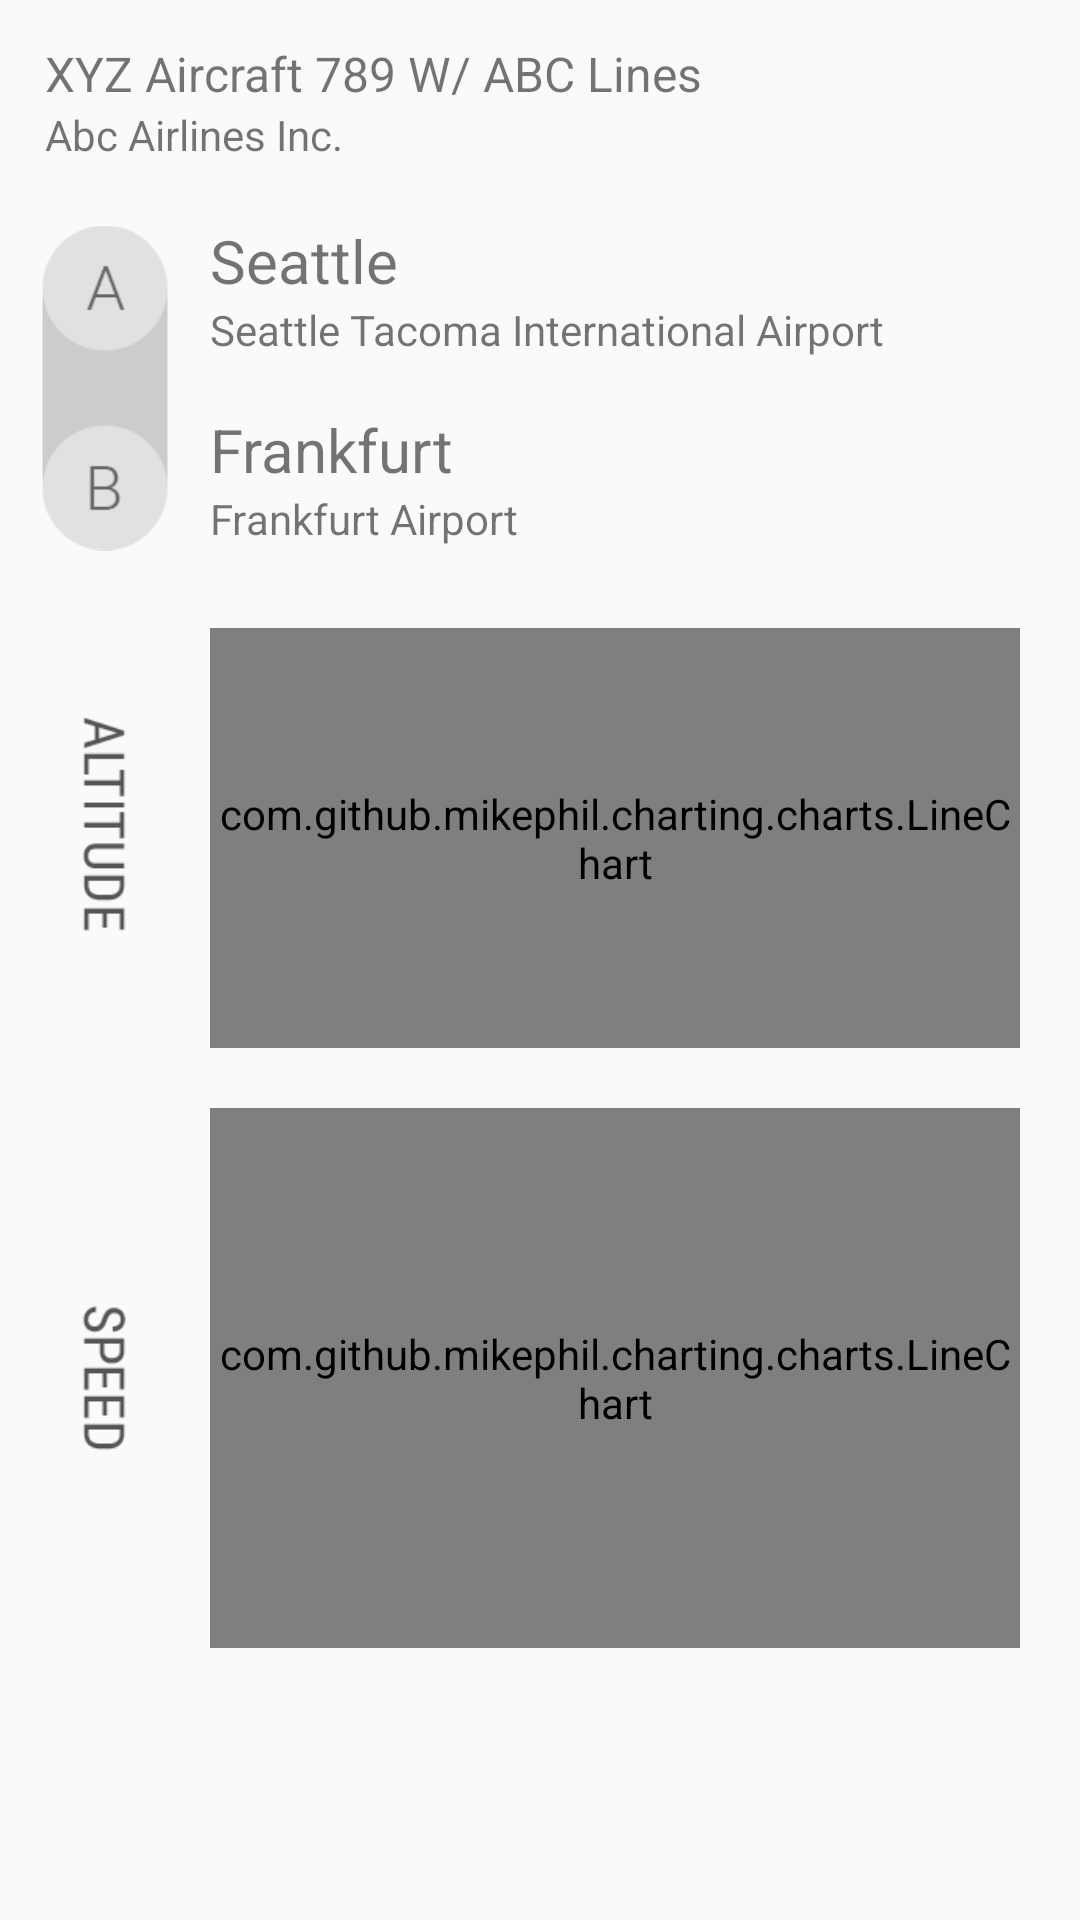

Named icons in this screenshot (1080×1920) and their centers, (x,y):
from to: (105,388)
